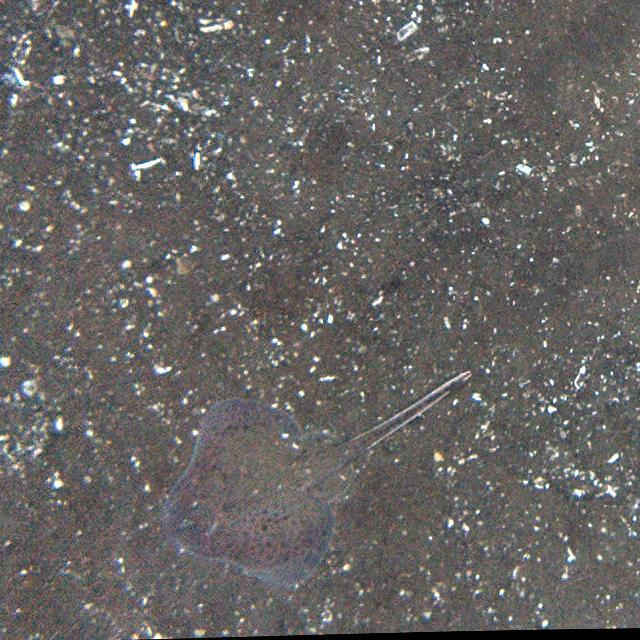skate: (156, 372, 481, 586)
